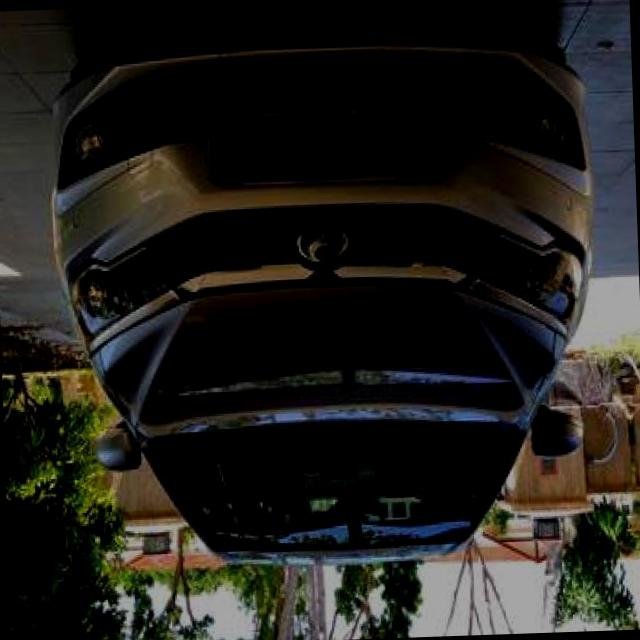PeroduaBezza: (43, 16, 608, 576)
